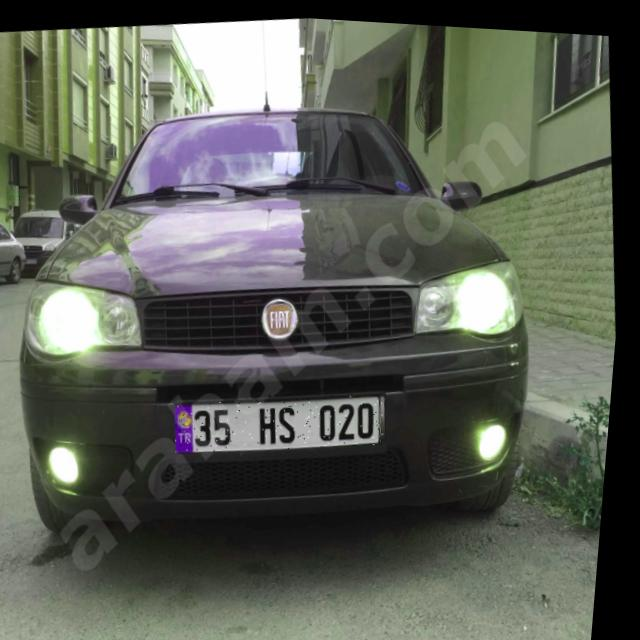license_plate: (178, 379, 395, 460)
